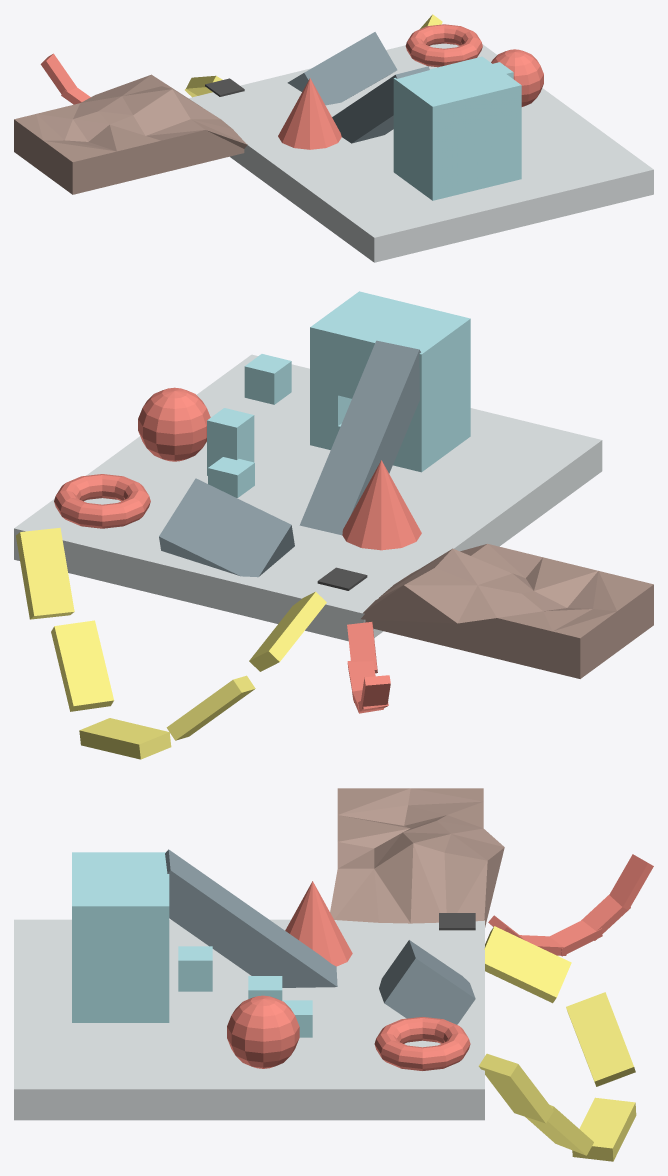
Rendered from testLevel.glb.
3 renders of one model, top to bottom at view 1: azimuth 30°, elevation 25°; view 2: azimuth 150°, elevation 25°; view 3: azimuth 270°, elevation 25°, orthographic. The views are drawn at different scales.
Parts seen in each view (by area): view 1: group1758225534, group212118804, group1866999787, group1354558334, group1063466398, group627370780, group218821540, group6035147, group249880285, group1686064932, group667992009; view 2: group1758225534, group212118804, group1866999787, group1063466398, group1354558334, group6035147, group627370780, group442956115, group218821540, group349510712, group172521308, group567592205 (+7 smaller); view 3: group1758225534, group212118804, group1866999787, group1063466398, group1354558334, group6035147, group218821540, group667992009, group1718619486, group627370780, group172521308, group442956115 (+8 smaller).
Boxes of the visible parts, x1=… form: group1758225534: x1=189, y1=43, x2=653, y2=262; group212118804: x1=14, y1=74, x2=247, y2=194; group1866999787: x1=393, y1=56, x2=521, y2=200; group1354558334: x1=287, y1=32, x2=397, y2=105; group1063466398: x1=332, y1=66, x2=429, y2=143; group627370780: x1=278, y1=78, x2=341, y2=149; group218821540: x1=405, y1=24, x2=482, y2=67; group6035147: x1=491, y1=49, x2=543, y2=106; group249880285: x1=40, y1=53, x2=76, y2=94; group1686064932: x1=205, y1=78, x2=244, y2=96; group667992009: x1=186, y1=75, x2=222, y2=95; group1758225534: x1=14, y1=354, x2=602, y2=641; group212118804: x1=361, y1=543, x2=653, y2=678; group1866999787: x1=310, y1=291, x2=470, y2=472; group1063466398: x1=299, y1=340, x2=420, y2=535; group1354558334: x1=159, y1=478, x2=294, y2=577; group6035147: x1=138, y1=387, x2=210, y2=461; group627370780: x1=342, y1=460, x2=421, y2=550; group442956115: x1=16, y1=527, x2=74, y2=619; group218821540: x1=54, y1=474, x2=150, y2=528; group349510712: x1=51, y1=620, x2=113, y2=711; group172521308: x1=79, y1=718, x2=171, y2=759; group567592205: x1=207, y1=408, x2=254, y2=475; group1758225534: x1=14, y1=919, x2=484, y2=1120; group212118804: x1=330, y1=788, x2=504, y2=927; group1866999787: x1=72, y1=852, x2=169, y2=1022; group1063466398: x1=165, y1=849, x2=337, y2=987; group1354558334: x1=379, y1=940, x2=475, y2=1024; group6035147: x1=227, y1=995, x2=299, y2=1068; group218821540: x1=374, y1=1017, x2=470, y2=1070; group667992009: x1=484, y1=926, x2=571, y2=1003; group1718619486: x1=566, y1=992, x2=635, y2=1086; group627370780: x1=285, y1=881, x2=352, y2=966; group172521308: x1=572, y1=1097, x2=636, y2=1161; group442956115: x1=478, y1=1053, x2=553, y2=1123.
Bounding box in the file's own units: 4.92 × 2.16 × 4.86.
